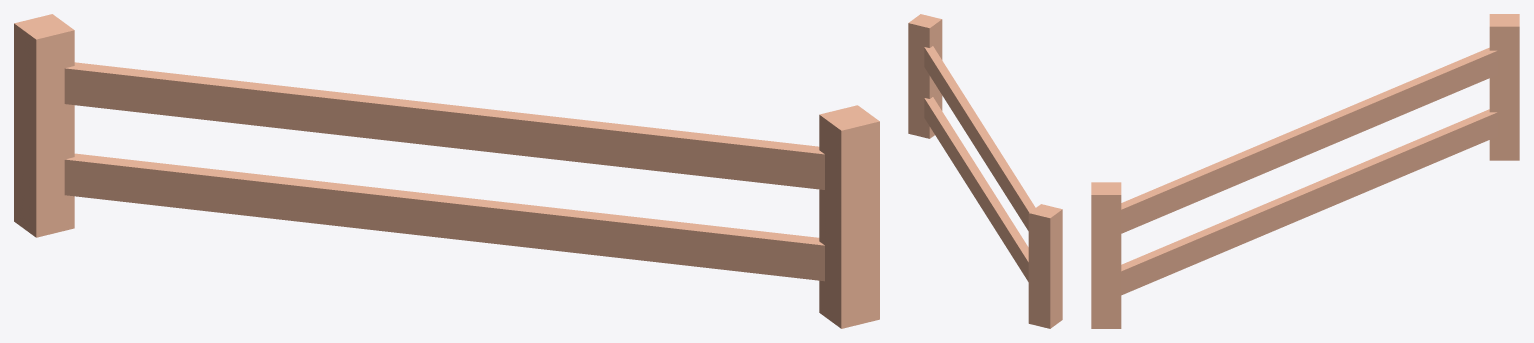
The model's file is fence_simpleDiagonal.gltf.
3 views of the same model, side by side, from view 1: azimuth 30°, elevation 25°; view 2: azimuth 150°, elevation 25°; view 3: azimuth 270°, elevation 25° (orthographic). The views are drawn at different scales.
Visible parts, largest first — view 1: fence_simpleDiagonal; view 2: fence_simpleDiagonal; view 3: fence_simpleDiagonal.
Part boxes in pixels (box(x1,y1,x2,y2)): fence_simpleDiagonal: box(14, 14, 879, 328); fence_simpleDiagonal: box(908, 14, 1062, 328); fence_simpleDiagonal: box(1091, 14, 1519, 328).
Bounding box in the file's own units: 1 × 0.345 × 1.
